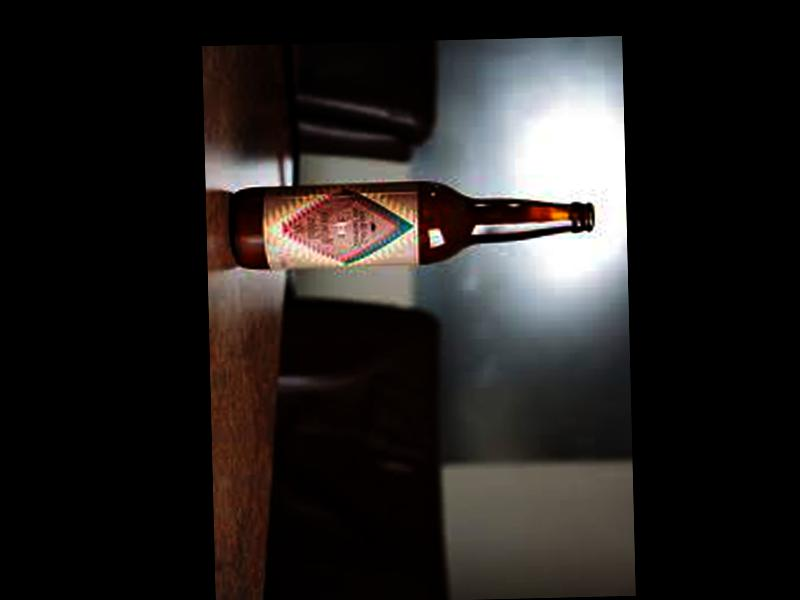Beer: (230, 178, 592, 267)
